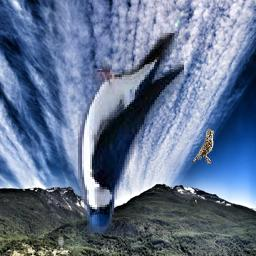Sparrow: (192, 128, 215, 164)
Swallow: (78, 33, 184, 233)
